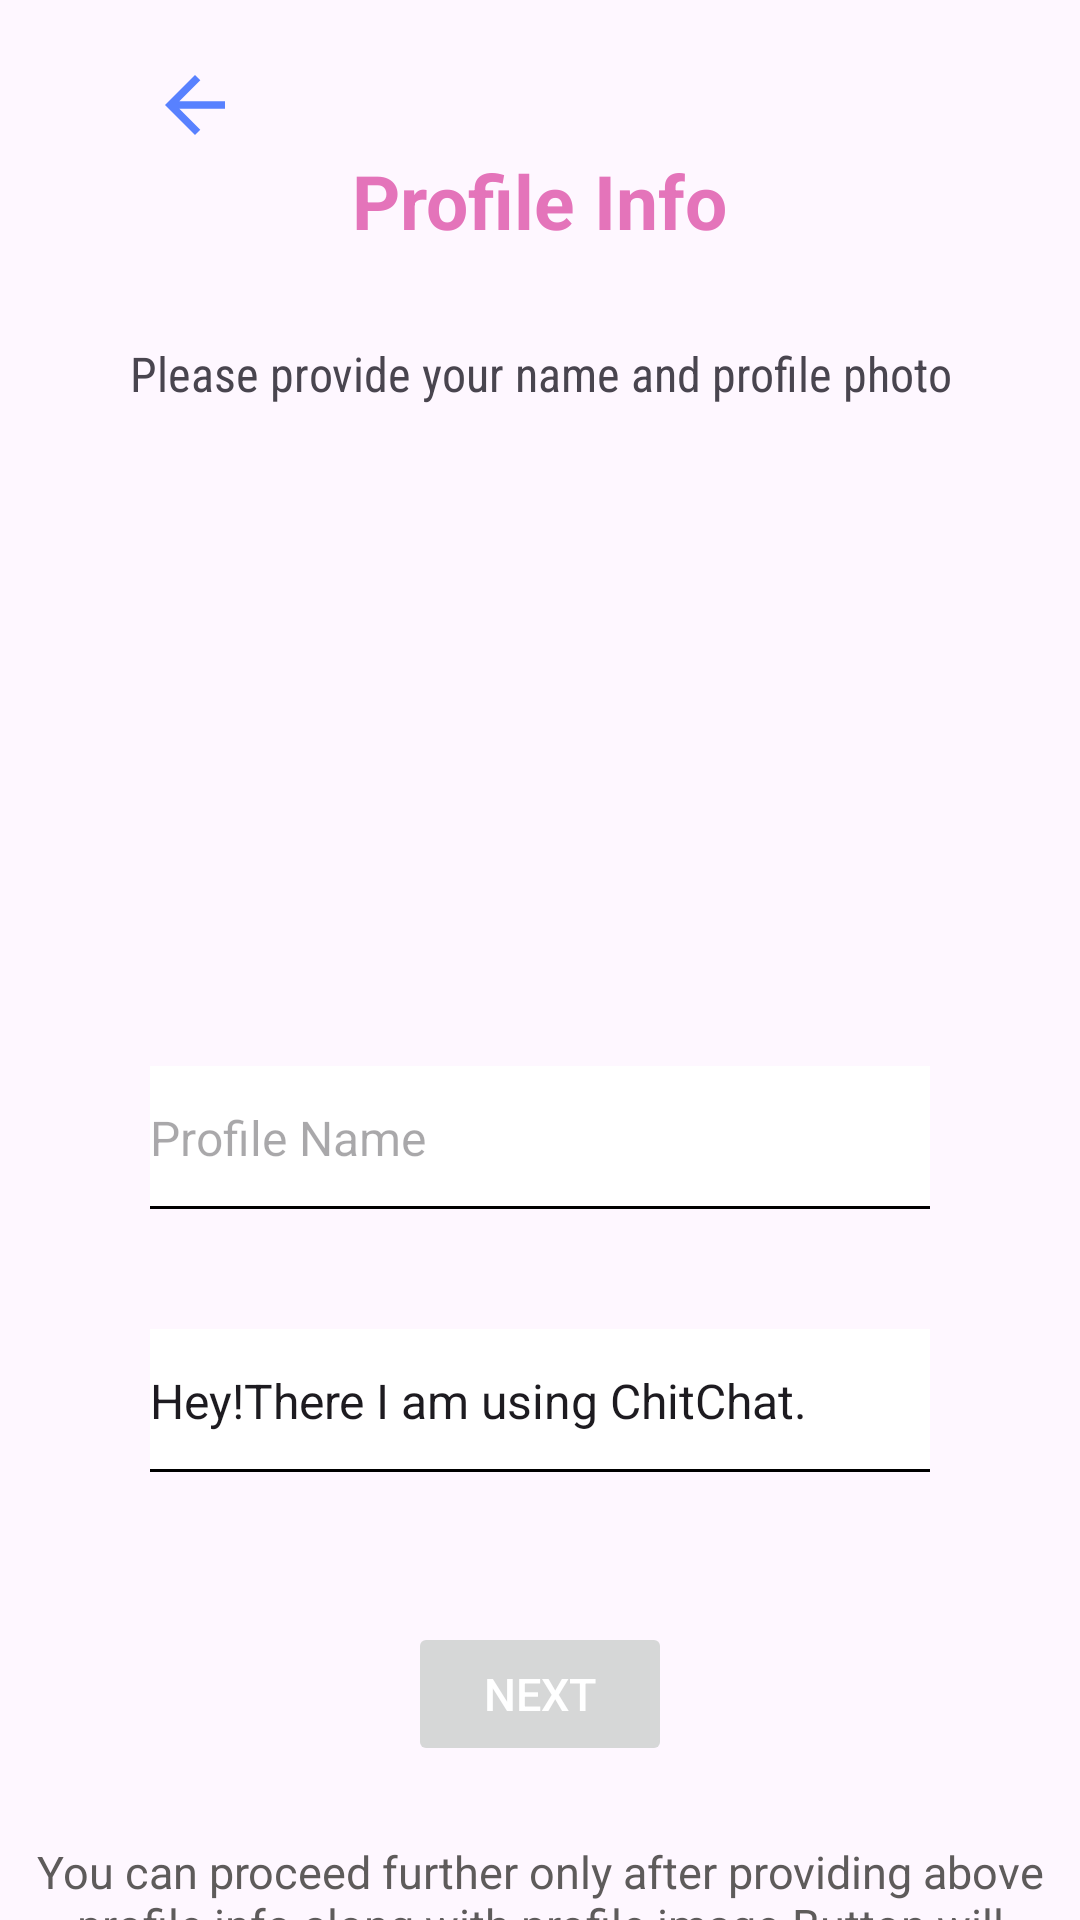

Icons on this 1080*1920 Android screen, each with the point to tap as point (x, y):
back: point (195, 105)
